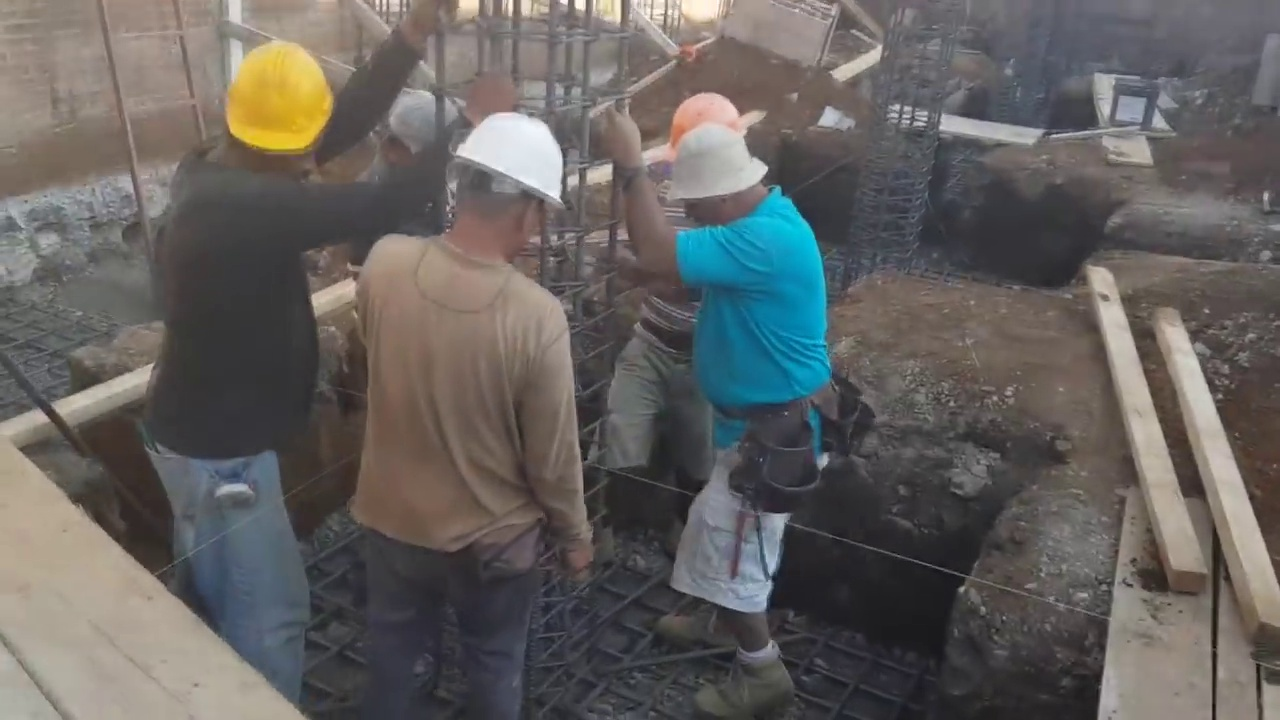helmet: (221, 39, 330, 152), (447, 108, 564, 213), (665, 92, 749, 165)
helmet-off: (664, 127, 778, 229), (383, 86, 454, 153)
helmet-on: (435, 104, 567, 268), (191, 39, 331, 180)
person: (137, 14, 428, 698), (318, 100, 593, 720), (594, 83, 839, 629), (603, 106, 751, 530), (307, 7, 441, 181), (338, 85, 453, 286)
